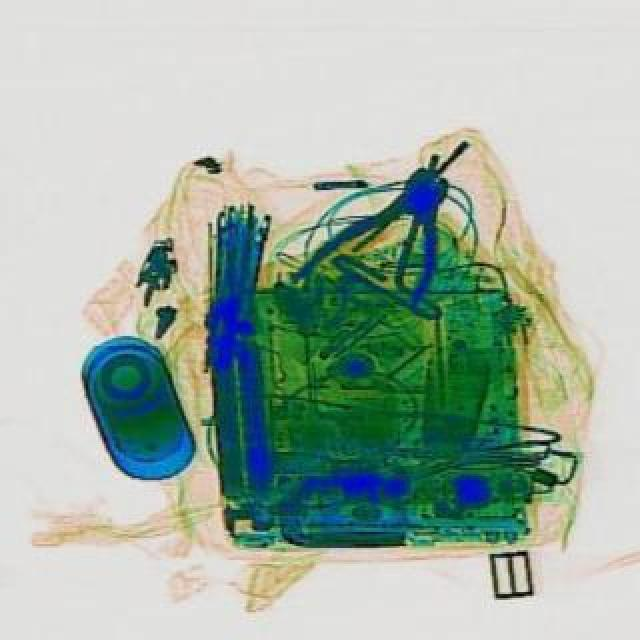wrench: (292, 140, 480, 324)
